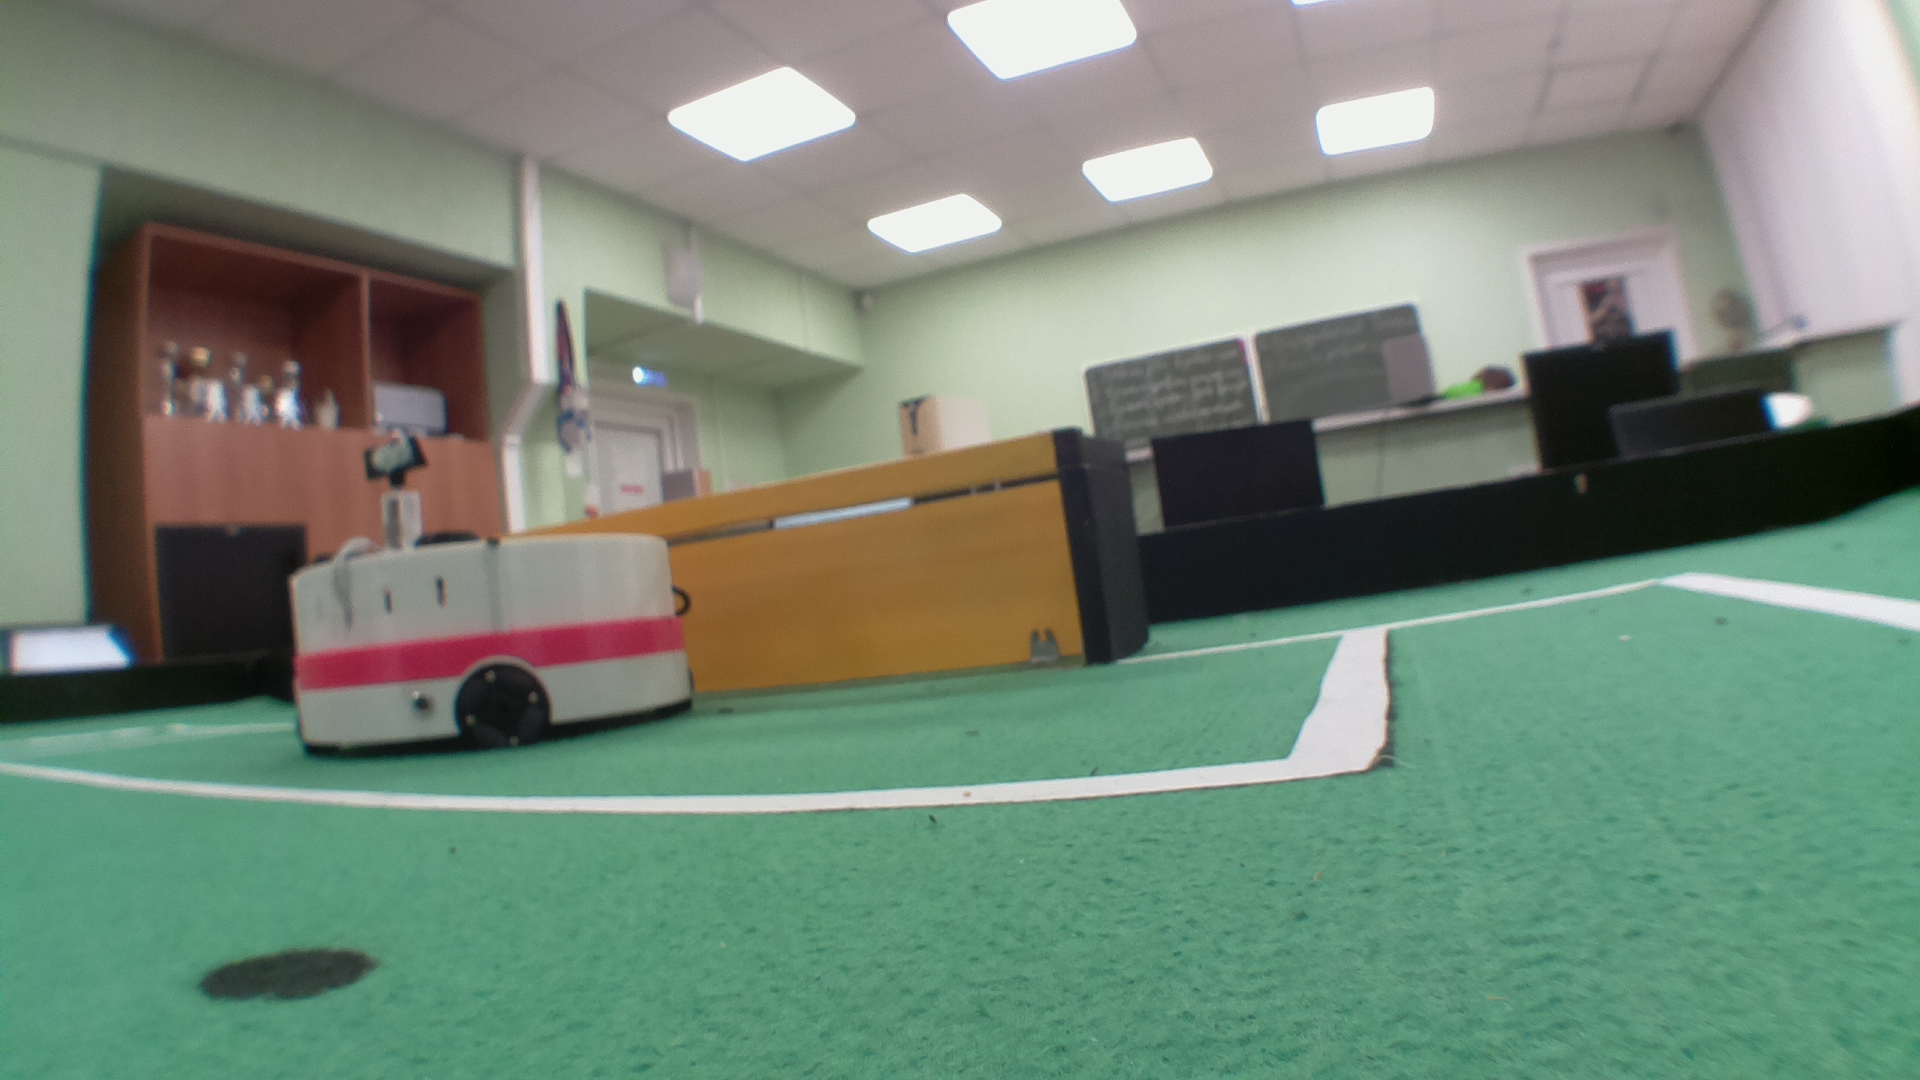YellowGoal: (622, 433, 1065, 686)
